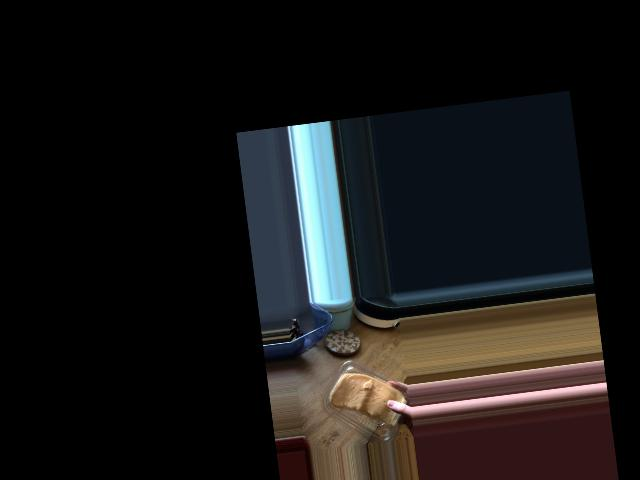cheese: (306, 347, 407, 448)
